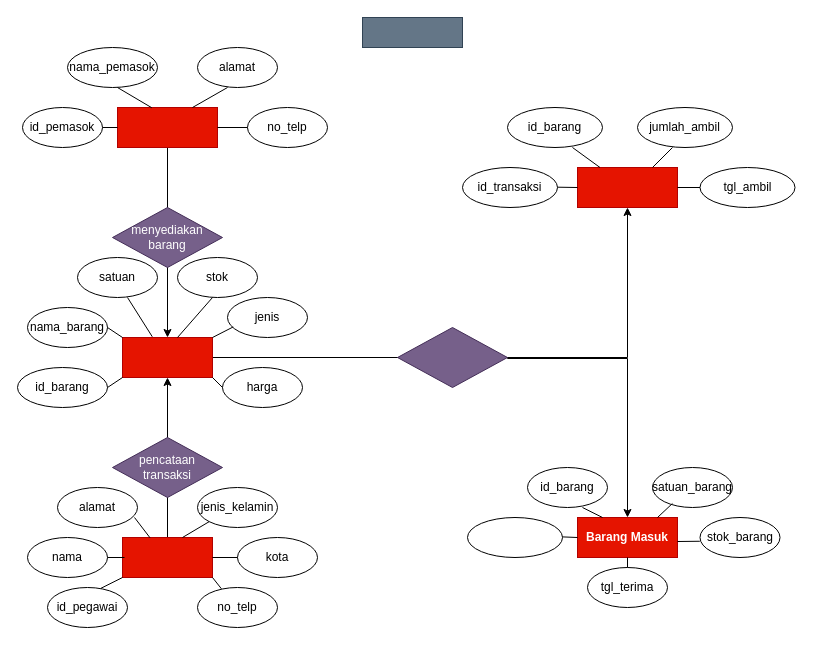
Image size: 813x645. Some labels were removed from this diagram. Each missing label, with the centre of its shape:
Barang: [167,357]
Barang Keluar: [627,187]
dicatat: [452,357]
ERD SYSTEM: [412,32]
kode_transaksi: [514,537]
Pegawai: [167,557]
Pemasok: [167,127]
